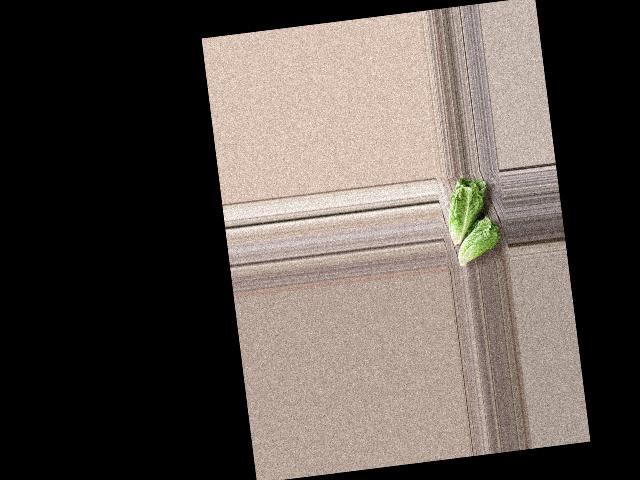lettuce: (451, 213, 507, 269)
